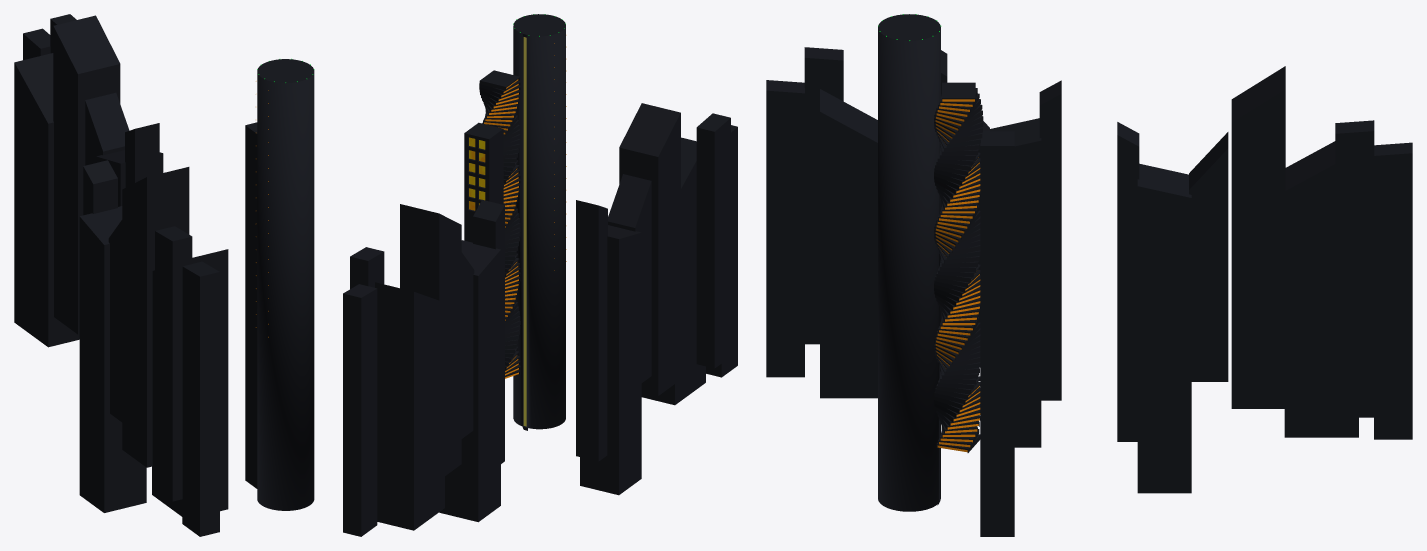
Rendered from test_decor_1.fbx.
3 renders of one model, left to right at view 1: azimuth 30°, elevation 25°; view 2: azimuth 150°, elevation 25°; view 3: azimuth 270°, elevation 25°, orthographic. The views are drawn at different scales.
Visible parts, largest first — view 1: Cube.072, Cube.044, Cylinder.002, Cube.073; view 2: Cube.044, Cube.072, Cylinder.002, Cube.074, Cube.073; view 3: Cube.044, Cube.072, Cylinder.002, Cube.074, Cube.073.
Part boxes in pixels (x1,y1,x2,y2): Cube.072: (79,160,228,536); Cube.044: (14,14,163,347); Cylinder.002: (257,59,314,510); Cube.073: (245,122,257,488); Cube.044: (343,199,504,536); Cube.072: (576,103,737,495); Cylinder.002: (513,14,565,430); Cube.074: (479,70,520,378); Cube.073: (464,122,503,242); Cube.044: (1117,66,1412,493); Cube.072: (766,47,1061,447); Cylinder.002: (878,14,940,511); Cube.074: (934,82,983,452); Cube.073: (980,131,1014,536).
Size of the model in its own units: 3454 by 7329 by 8733.
